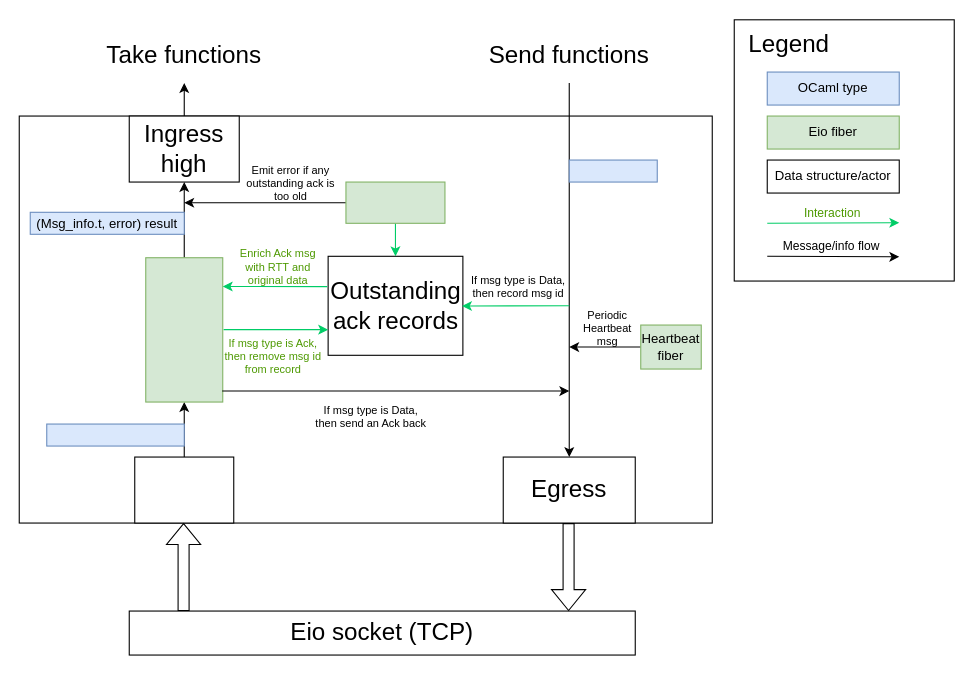
Some shapes in this 974 by 674 pixel diagram are drawn without their labels. Each missing label, with the centre of its shape:
"(Msg.t, error) result" belongs at (115,434).
"Forwarding fiber" belongs at (184,329).
"Ingress low" belongs at (184,489).
"Msg.t option" belongs at (612,170).
"Outstanding ack checking fiber" belongs at (395,202).
